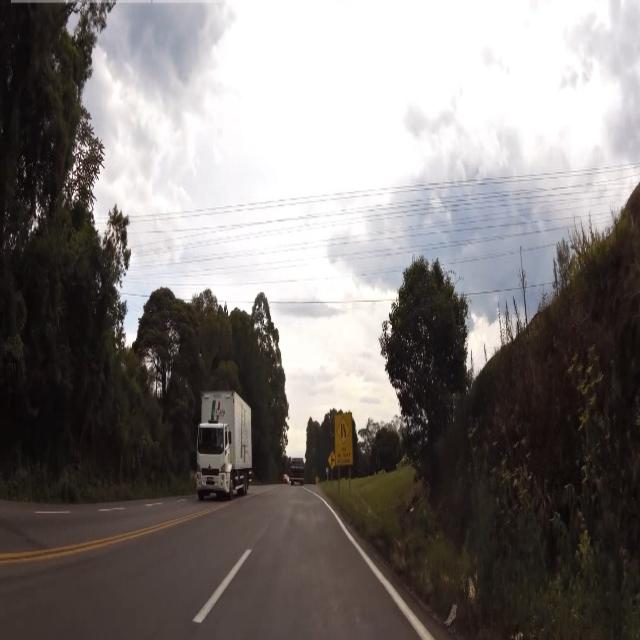A-21c: (336, 419, 352, 446)
